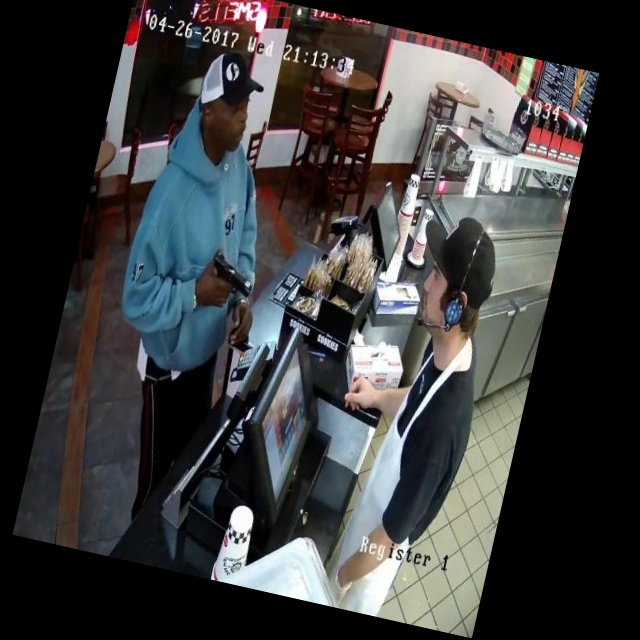gun: (188, 243, 273, 314)
